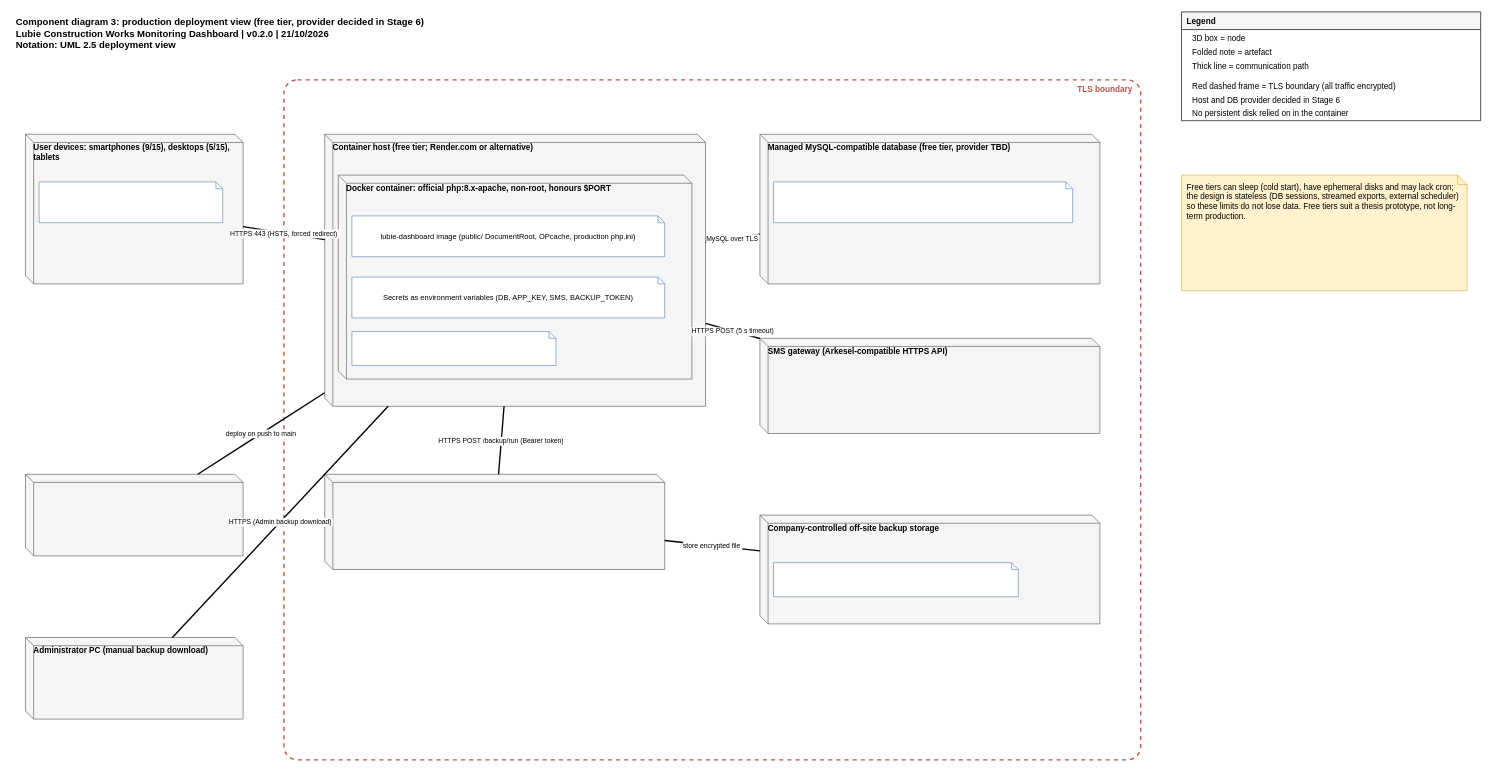
The diagram is 1493 pixels wide and 772 high, and some of its shapes have lost their labels. The shapes that lost their labels are listed below. From the top down, each one's centre as x and y in pixels, then its label:
(x=130, y=202): Browser + installed offline web app [It.2]
(x=923, y=202): lubie_dashboard (prod schema + production seed + demo seed for evaluation)
(x=453, y=348): /health endpoint (no secrets)
(x=134, y=515): GitHub (source, CI later)
(x=494, y=522): External scheduler (free cron service)
(x=895, y=579): Encrypted daily backups: 7 daily, 4 weekly
